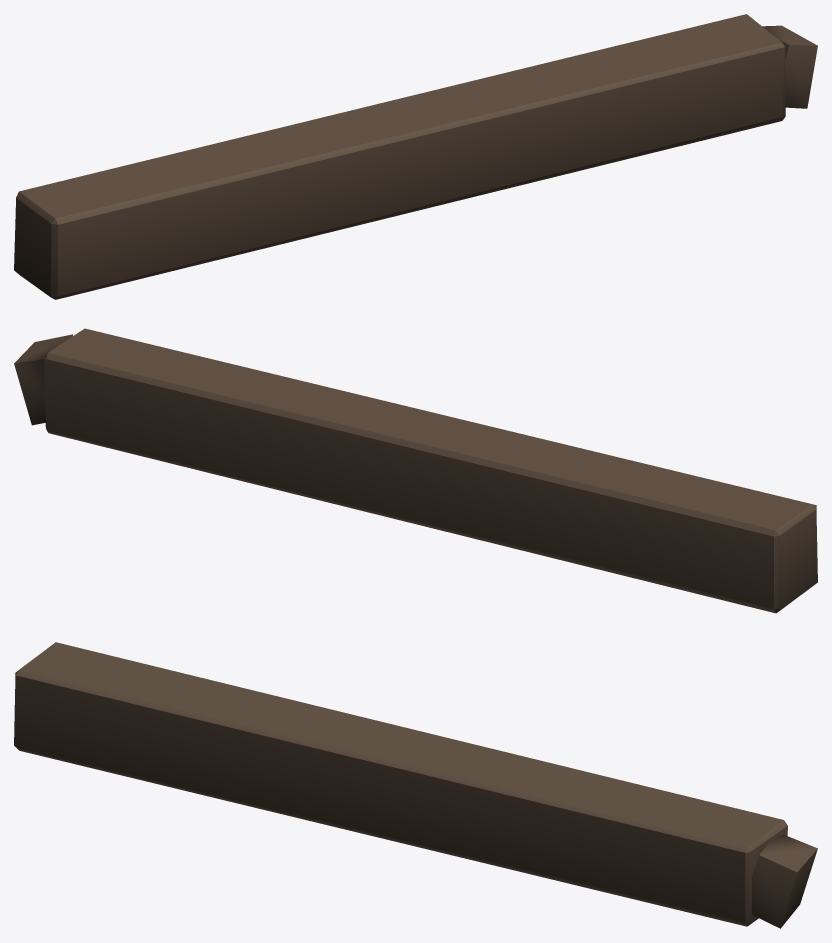
File: prop.beam.glb
The picture shows the model from 3 angles, top to bottom: view 1: azimuth 30°, elevation 25°; view 2: azimuth 150°, elevation 25°; view 3: azimuth 330°, elevation 25°; orthographic projection.
Visible parts, largest first — view 1: LOD0; view 2: LOD0; view 3: LOD0.
Boxes of the visible parts, <box> form: LOD0: <box>14,14,817,299</box>; LOD0: <box>14,328,817,613</box>; LOD0: <box>14,642,817,928</box>.
Size of what is drawn, in the model's own units: 2.43 by 0.2481 by 0.2283.
